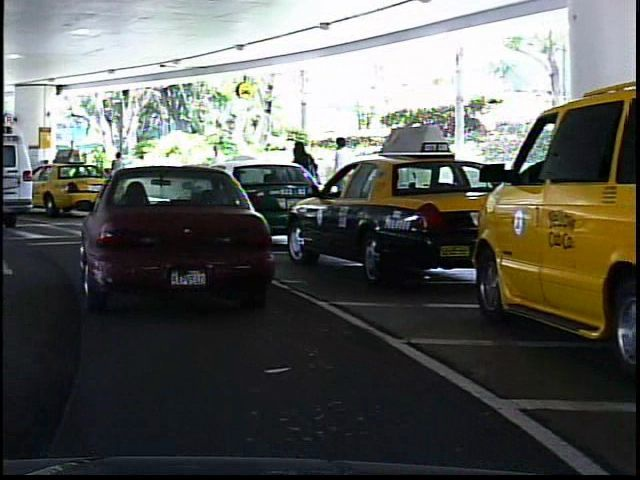person: (284, 135, 319, 229), (326, 130, 358, 221), (203, 139, 230, 204), (103, 147, 129, 198)
